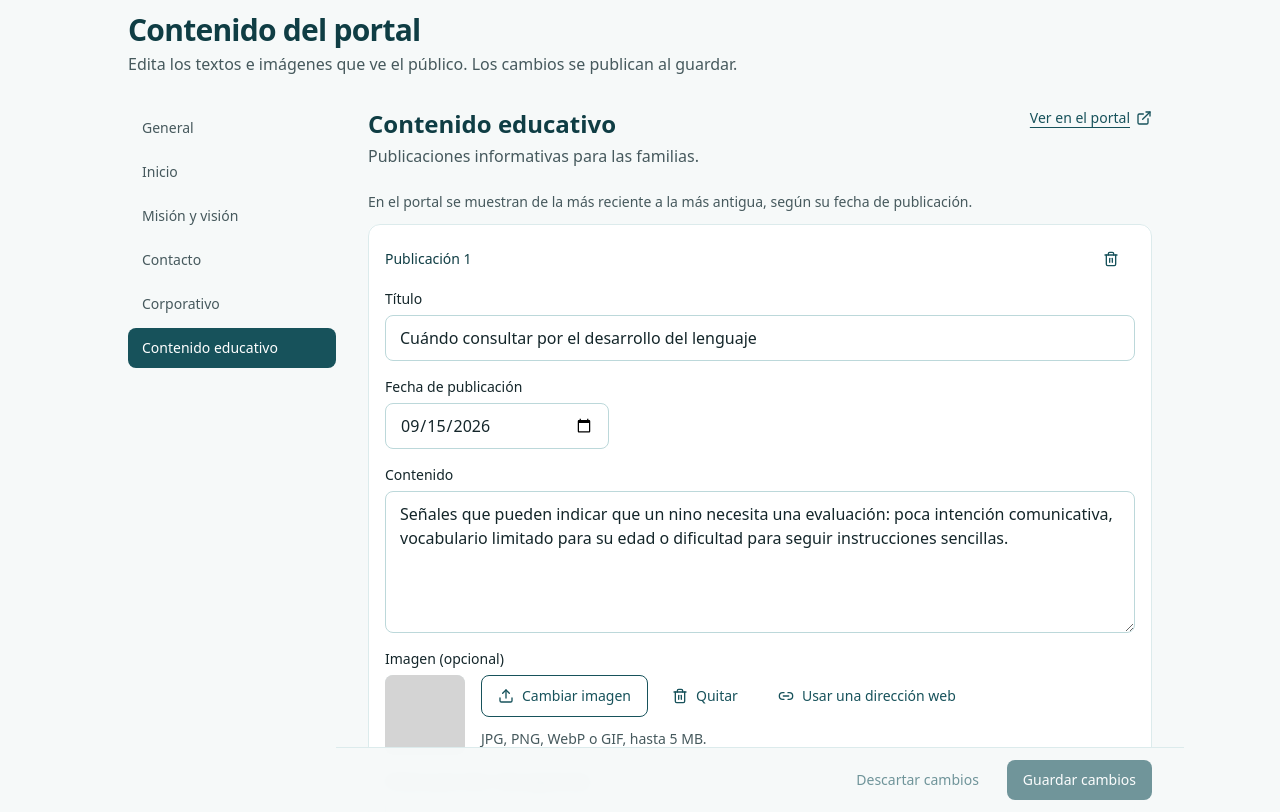
Editor de contenido › educativo: quitar una publicación
Click the button named "Quitar: Publicación 1" at (1111, 259), box x1=1087 y1=241 x2=1135 y2=277
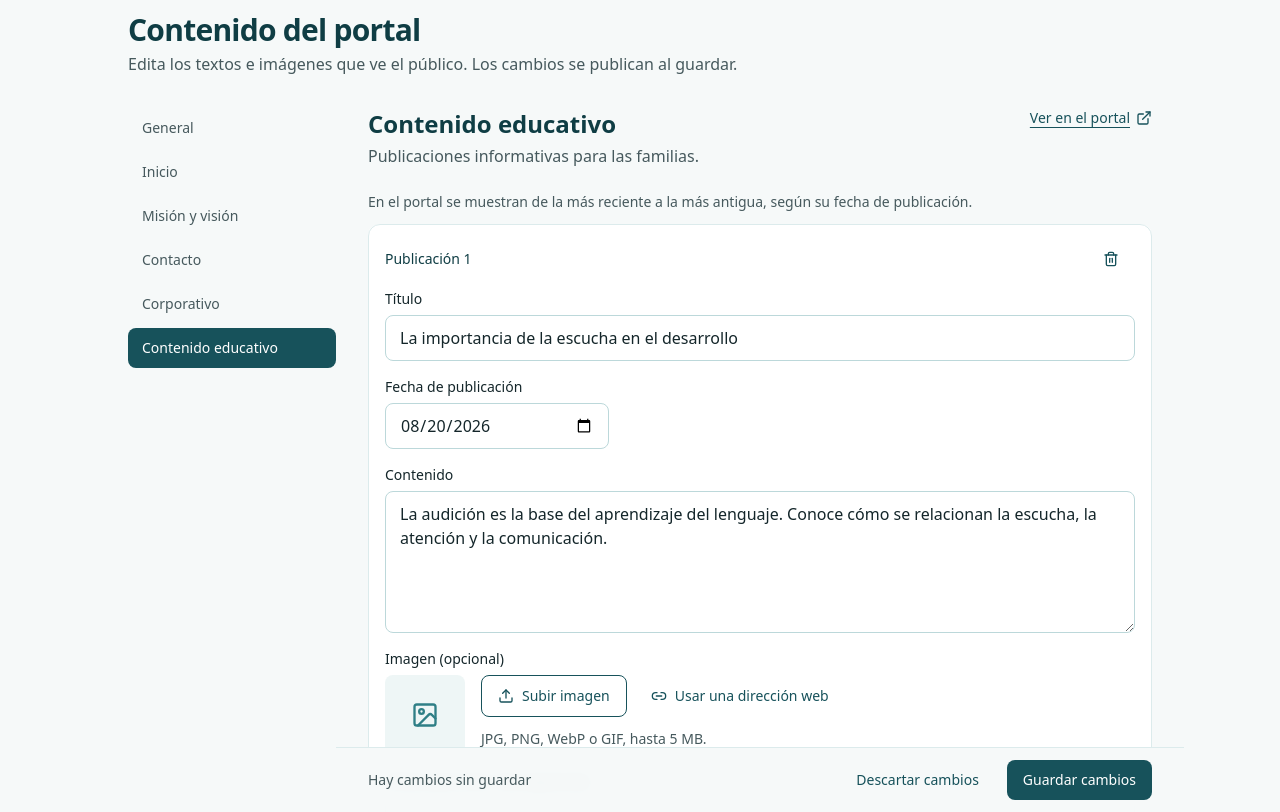
Click the button "Guardar cambios" at (1079, 780), box x1=1007 y1=760 x2=1152 y2=800
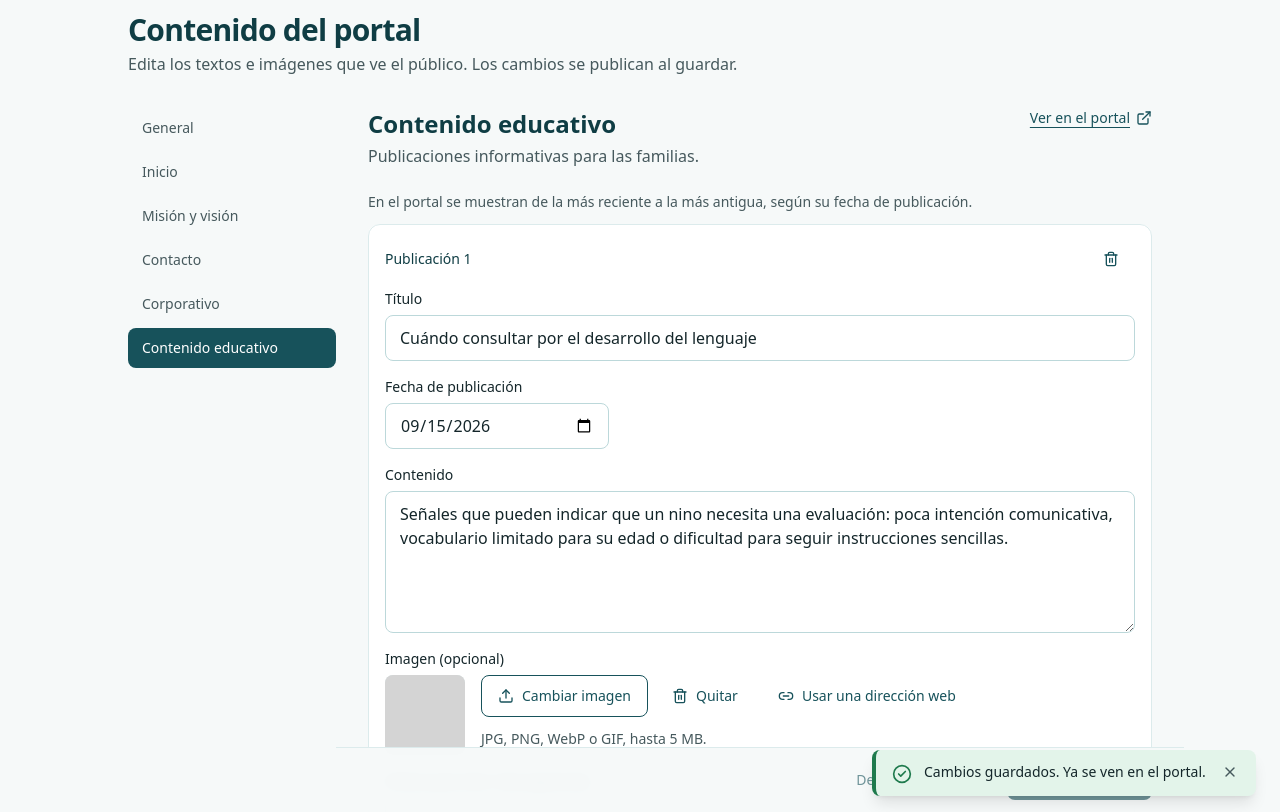
expect the text "Cambios guardados. Ya se ven en el portal." is shown: met, box x1=924 y1=762 x2=1208 y2=782
